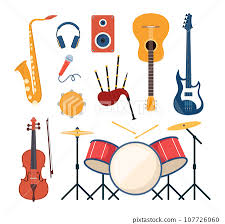Saxophone: (5, 8, 69, 120)
Violin: (7, 111, 65, 210)
